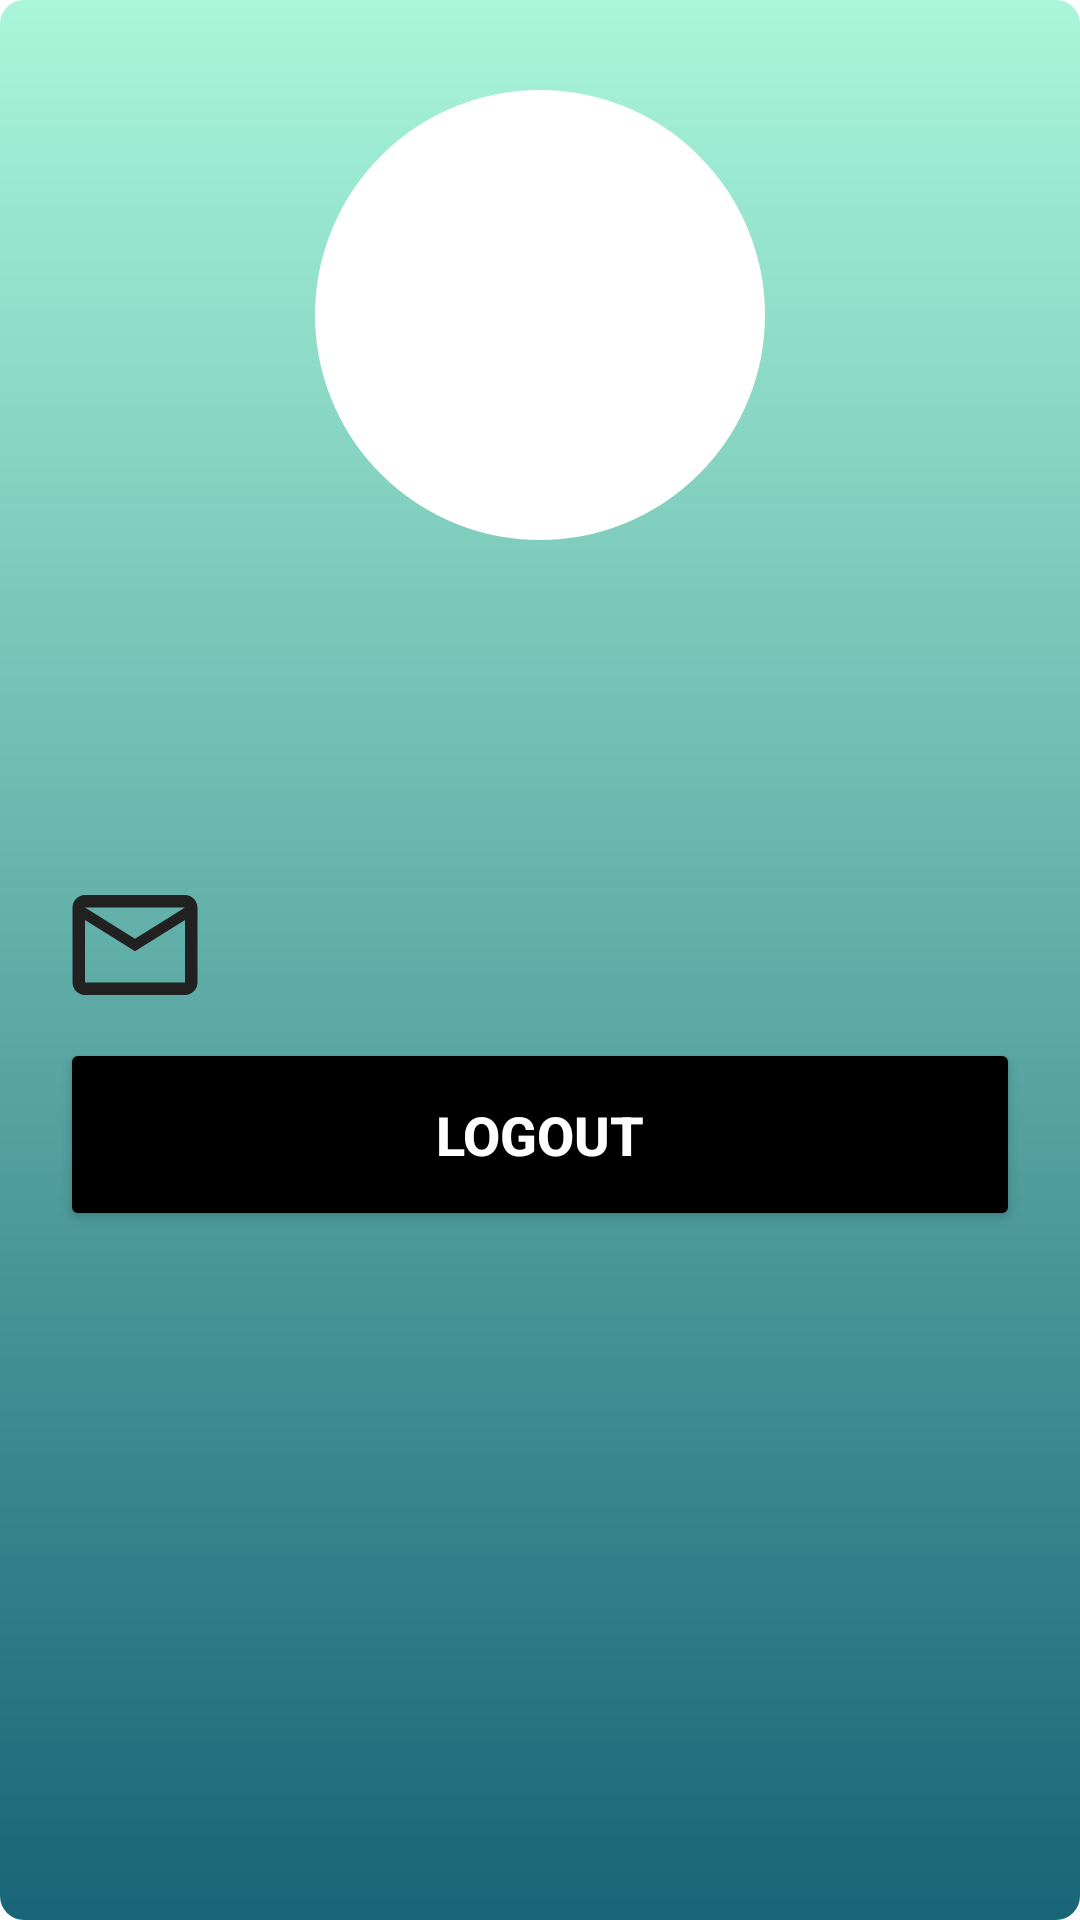

Icons on this 1080 x 1920 Android screen, each with the point to tap as [x,y]:
email: [135,945]
